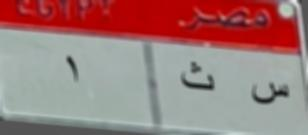1: (61, 49, 86, 85)
seen: (245, 79, 293, 117)
thaa: (179, 58, 217, 98)
